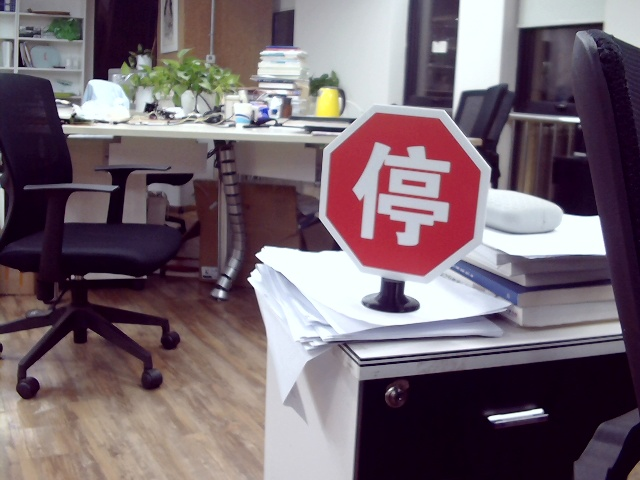stop: (352, 137, 452, 244)
